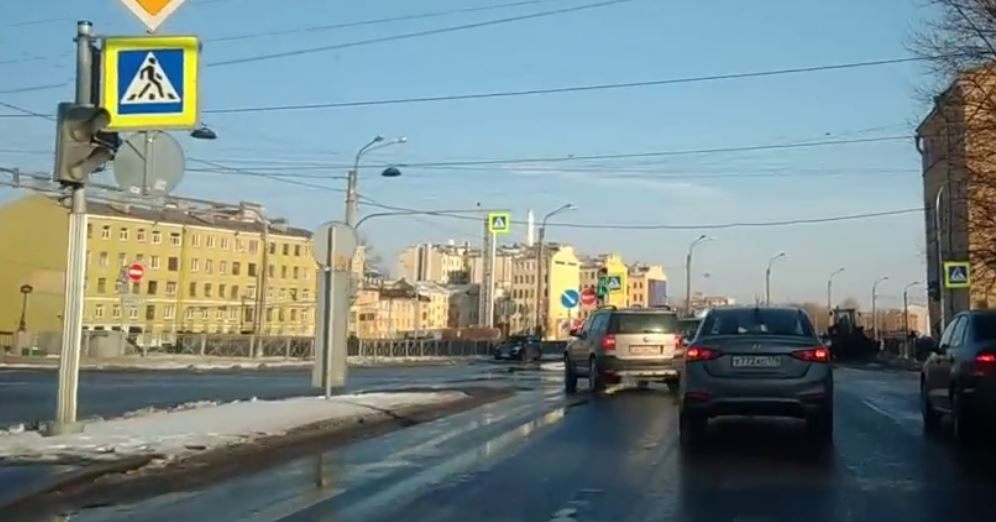Yaya Gecidi: (114, 41, 183, 111)
